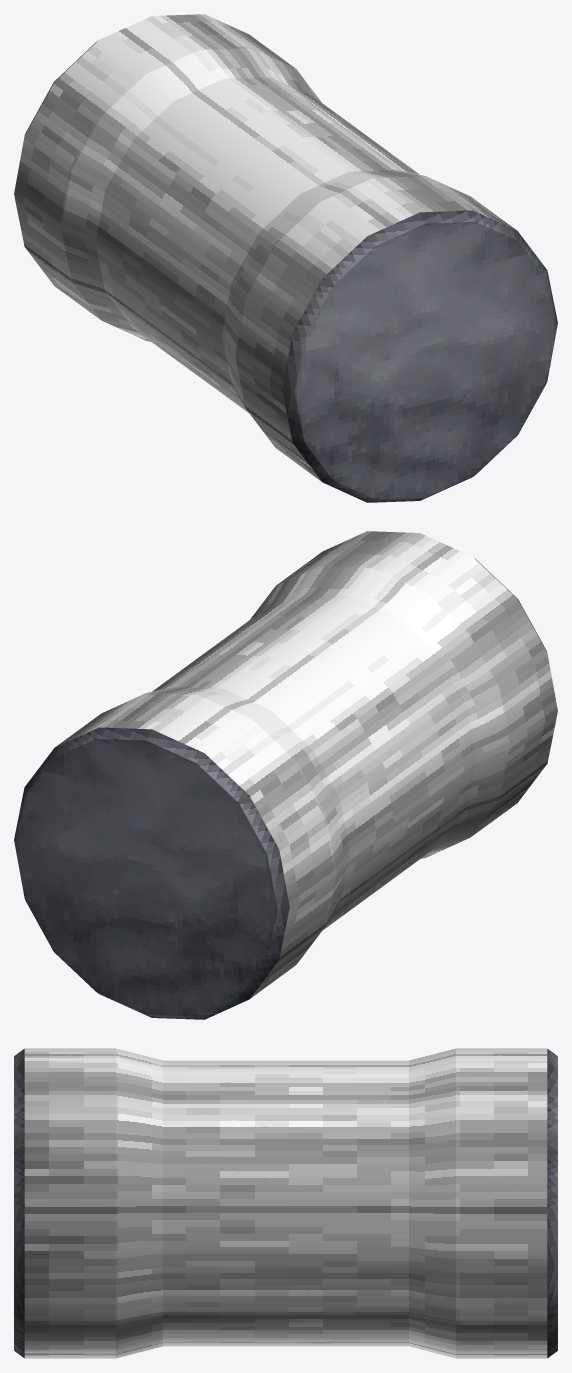
File: ItmHammerHead.obj
3 renders of one model, top to bottom at view 1: azimuth 30°, elevation 25°; view 2: azimuth 150°, elevation 25°; view 3: azimuth 270°, elevation 25°, orthographic. The views are drawn at different scales.
Parts seen in each view (by area): view 1: polygon1, polygon0; view 2: polygon1, polygon0; view 3: polygon1, polygon0.
Part boxes in pixels (<box>): polygon1: <box>14,14,516,481</box>; polygon0: <box>24,41,557,502</box>; polygon1: <box>55,531,557,998</box>; polygon0: <box>14,558,547,1019</box>; polygon1: <box>24,1048,547,1358</box>; polygon0: <box>14,1049,557,1357</box>.
Size of the model in its own units: 6.24 by 6.24 by 10.94.
2 materials, 2 textured.
